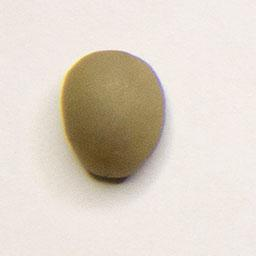premium: (59, 47, 168, 182)
